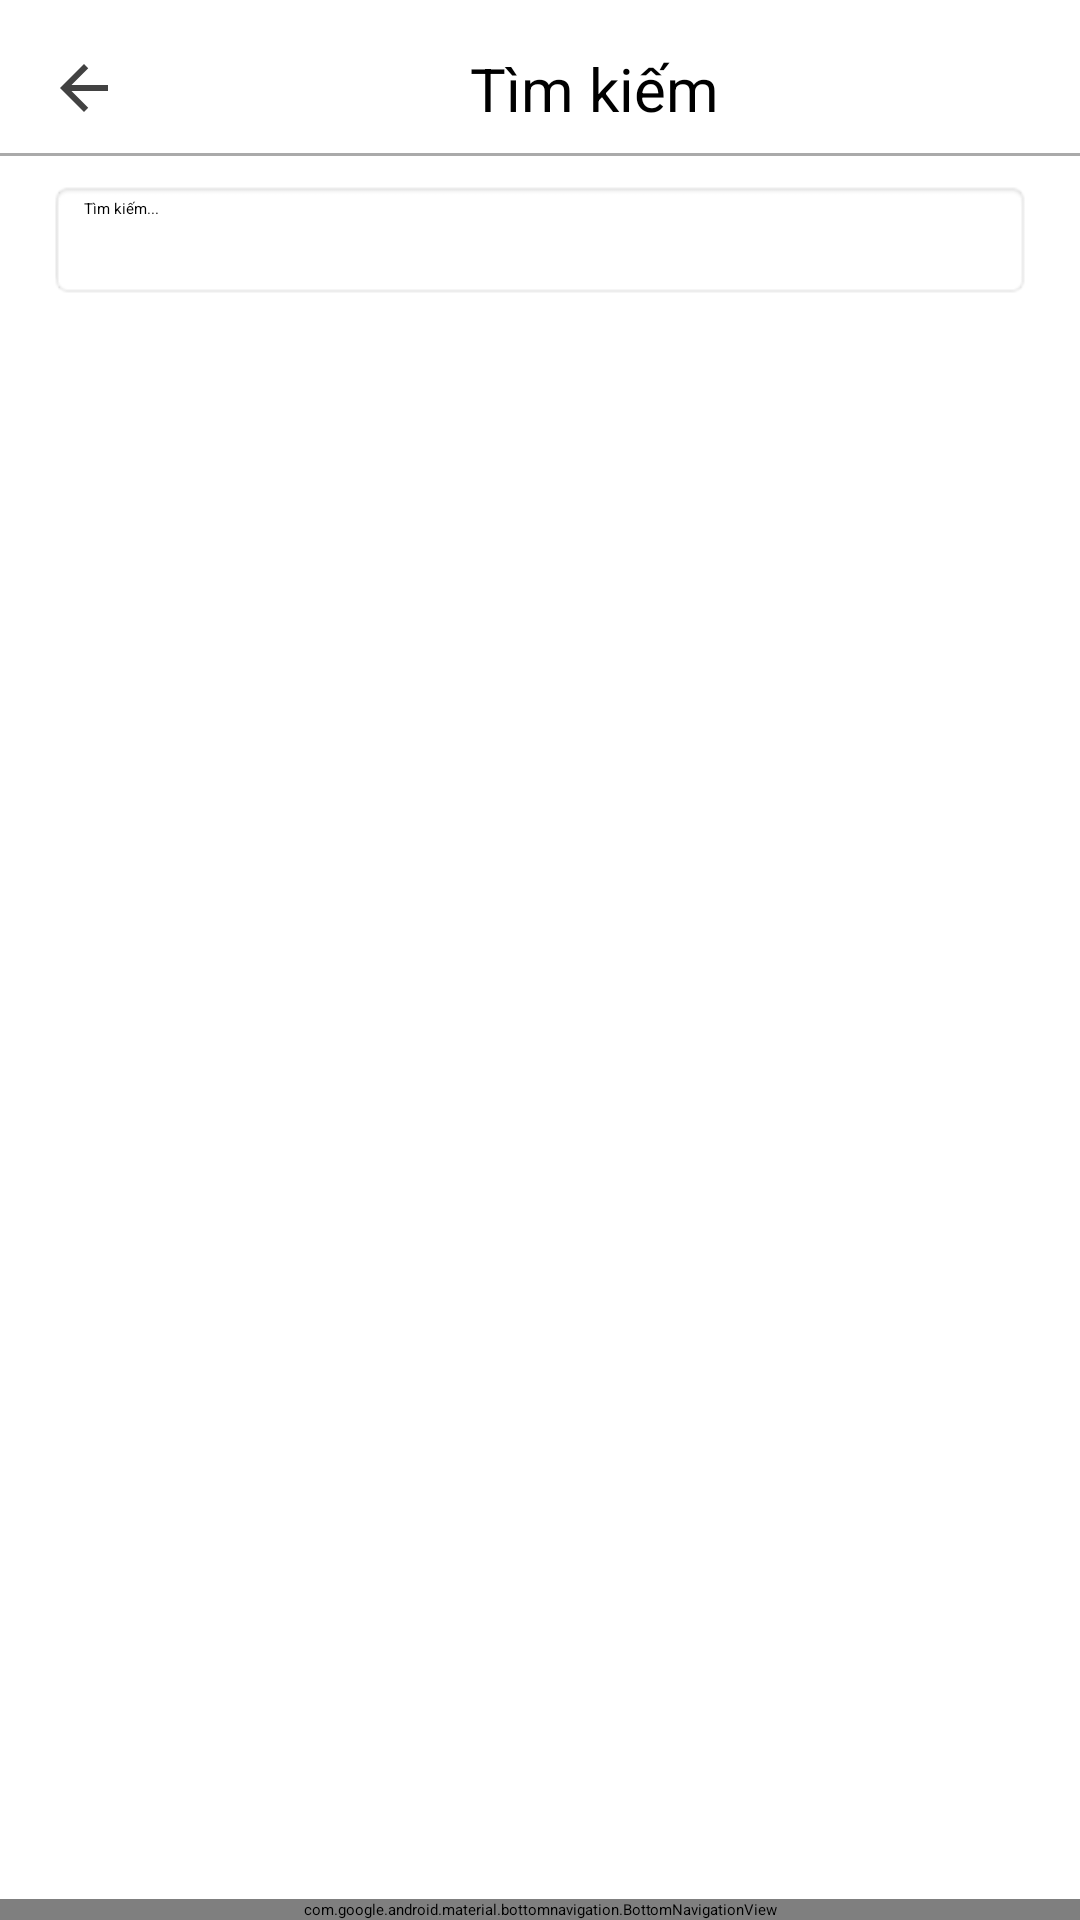

Locate icon controls on the screen. Image size 1080w x 1920h, boxes as box(x1, y1, x2, y2).
Back: box(60, 64, 108, 112)
